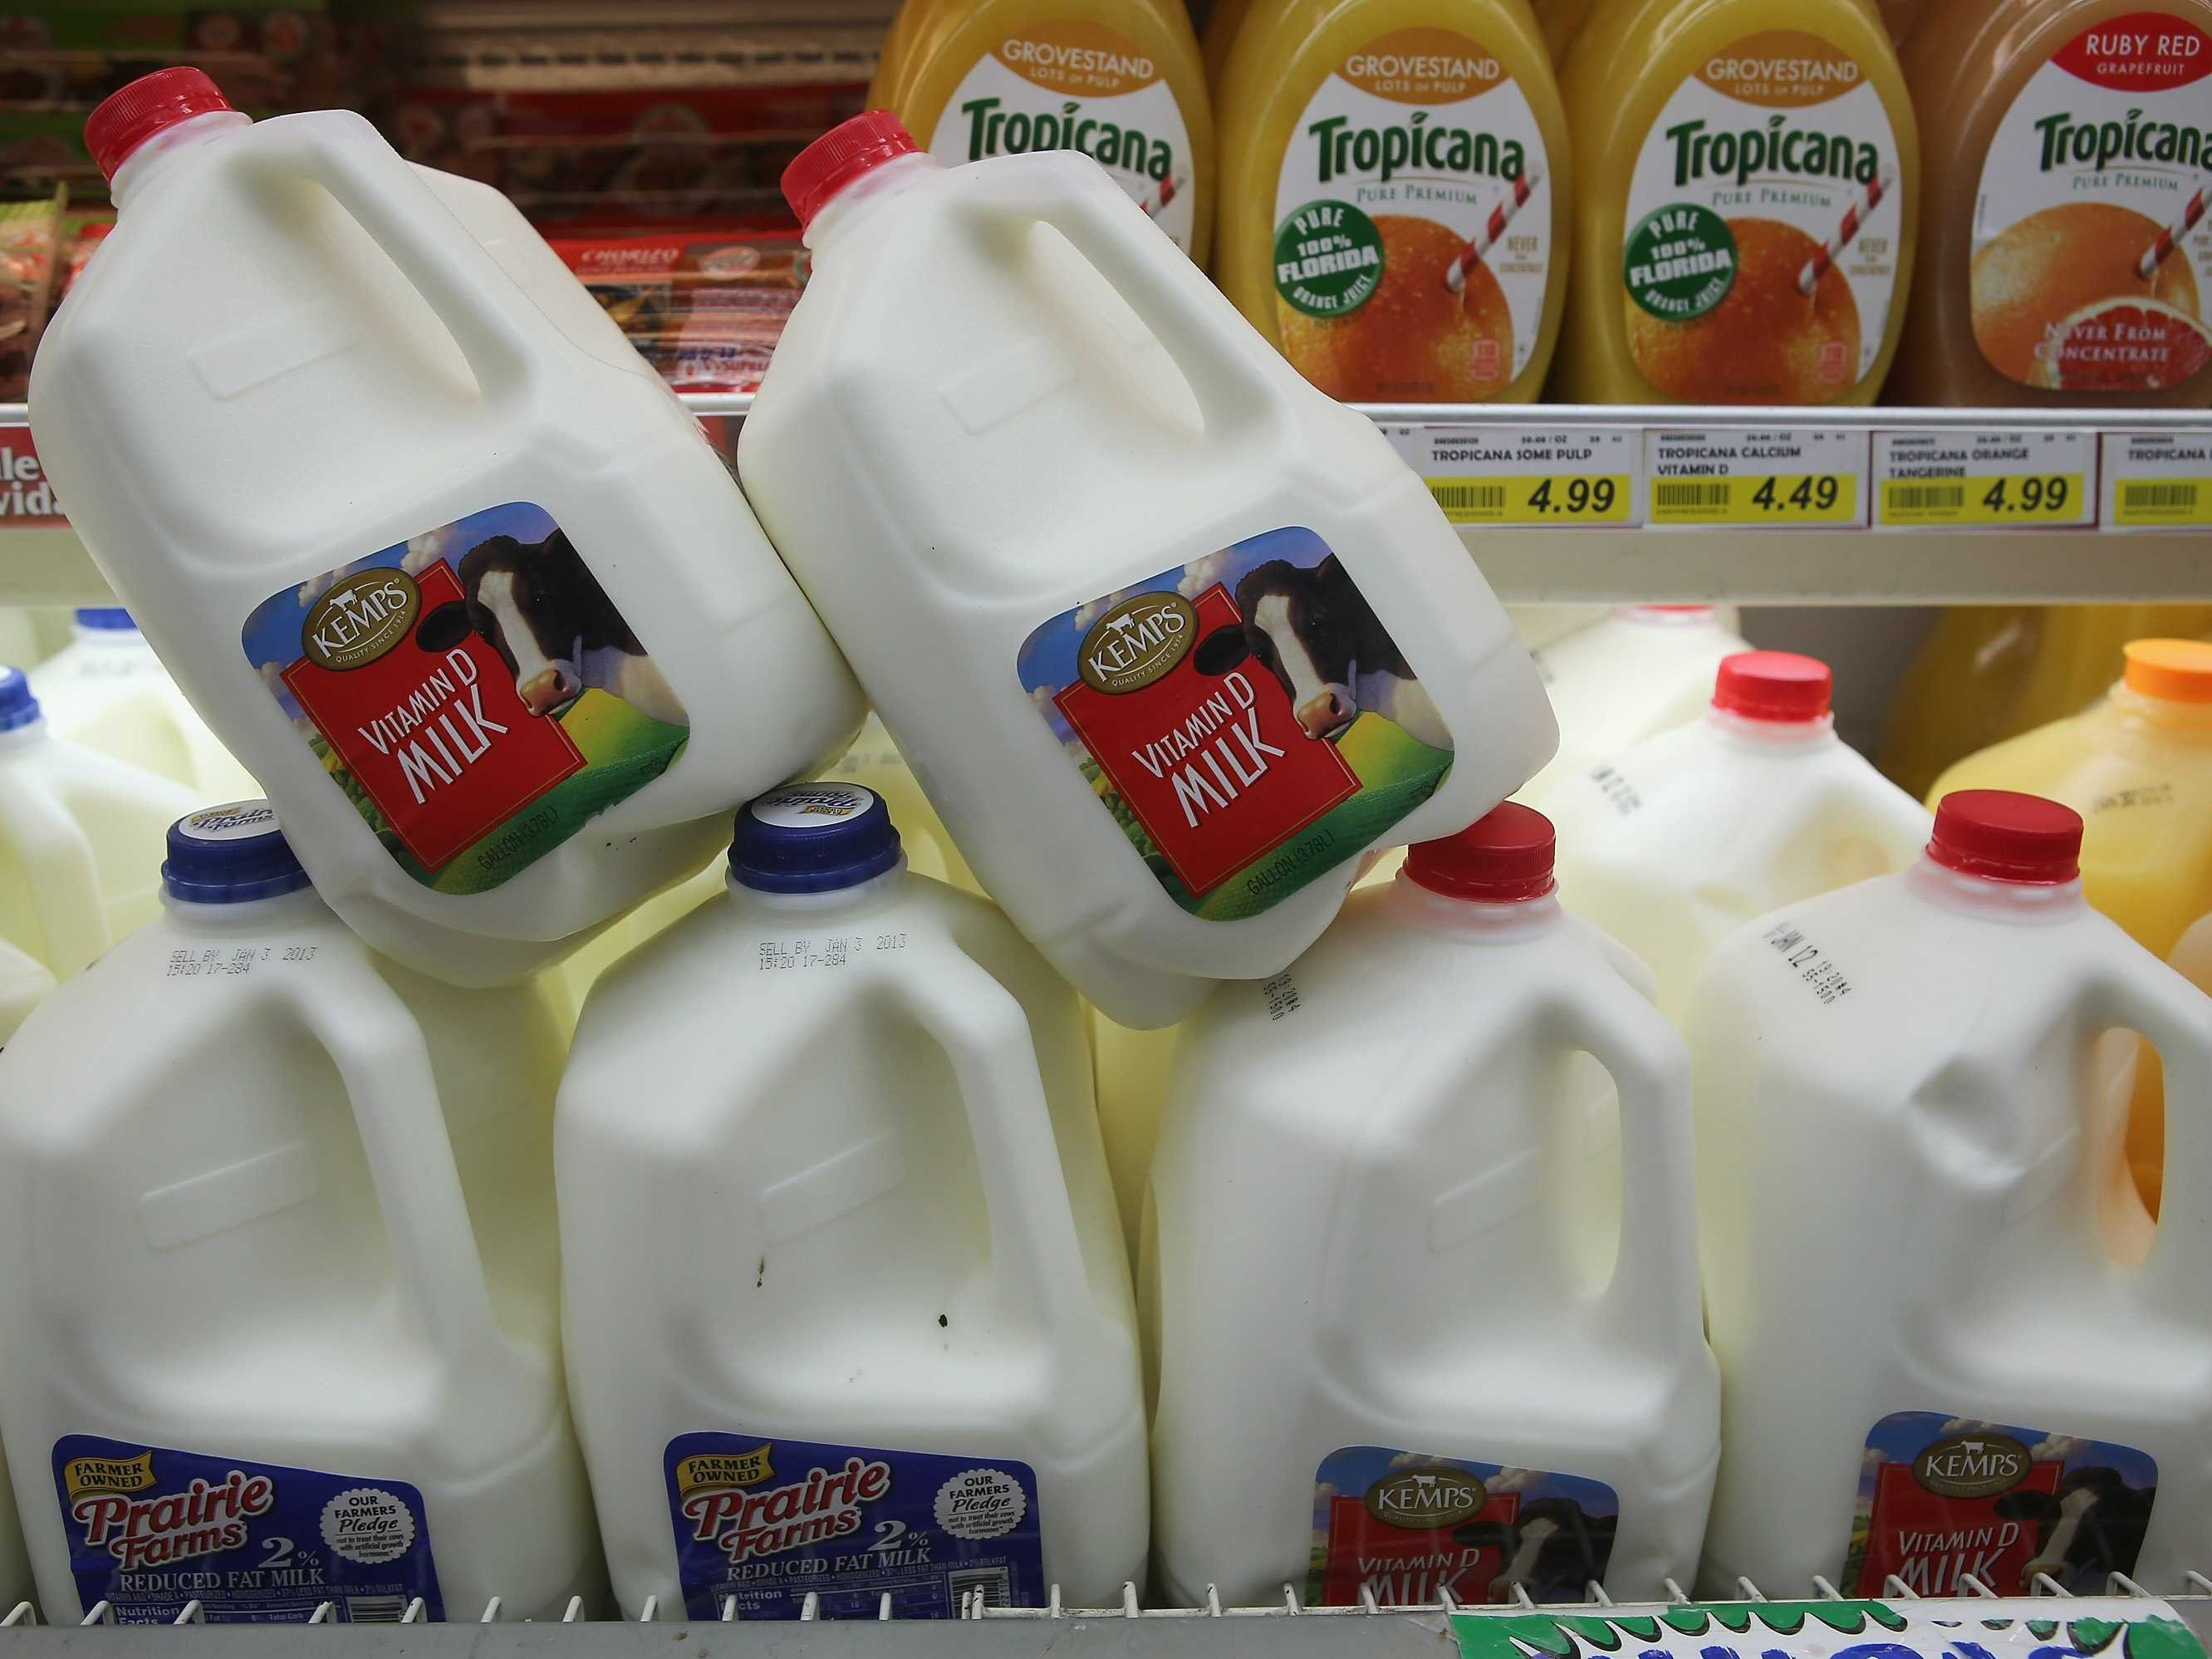milk: (707, 146, 1597, 941), (33, 96, 840, 910), (554, 836, 1157, 1615), (17, 824, 587, 1615), (1174, 908, 1723, 1612), (1723, 833, 2212, 1577), (1618, 659, 1909, 936)
